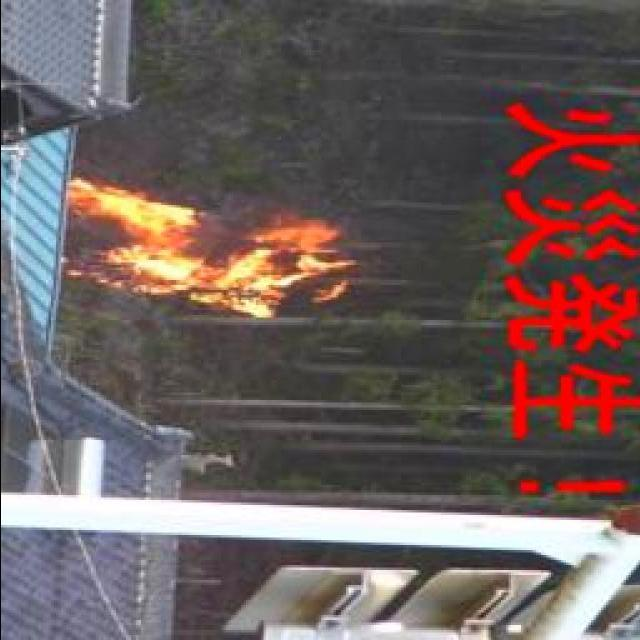Fire: (61, 175, 342, 327)
